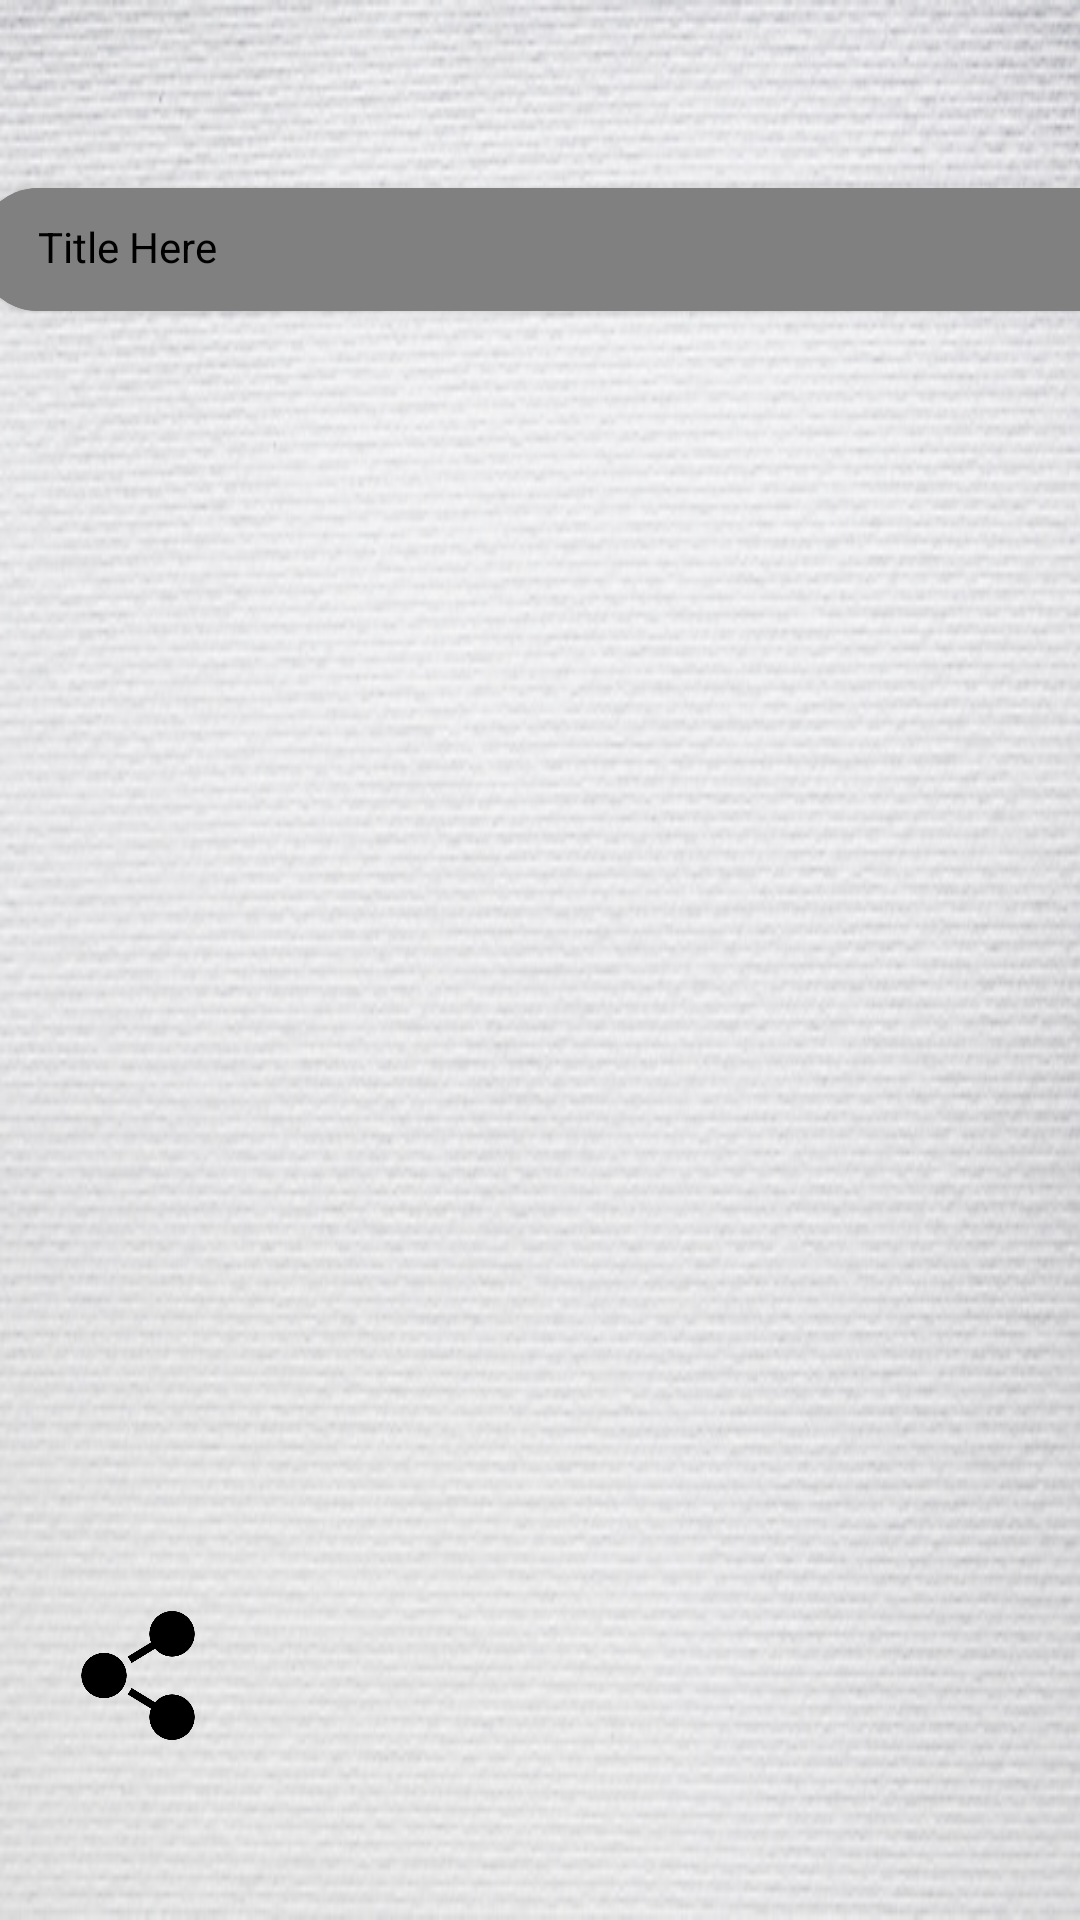

Named icons in this screenshot (1080*1920) and their centers, (x=x, y=y):
share: (x=138, y=1675)
